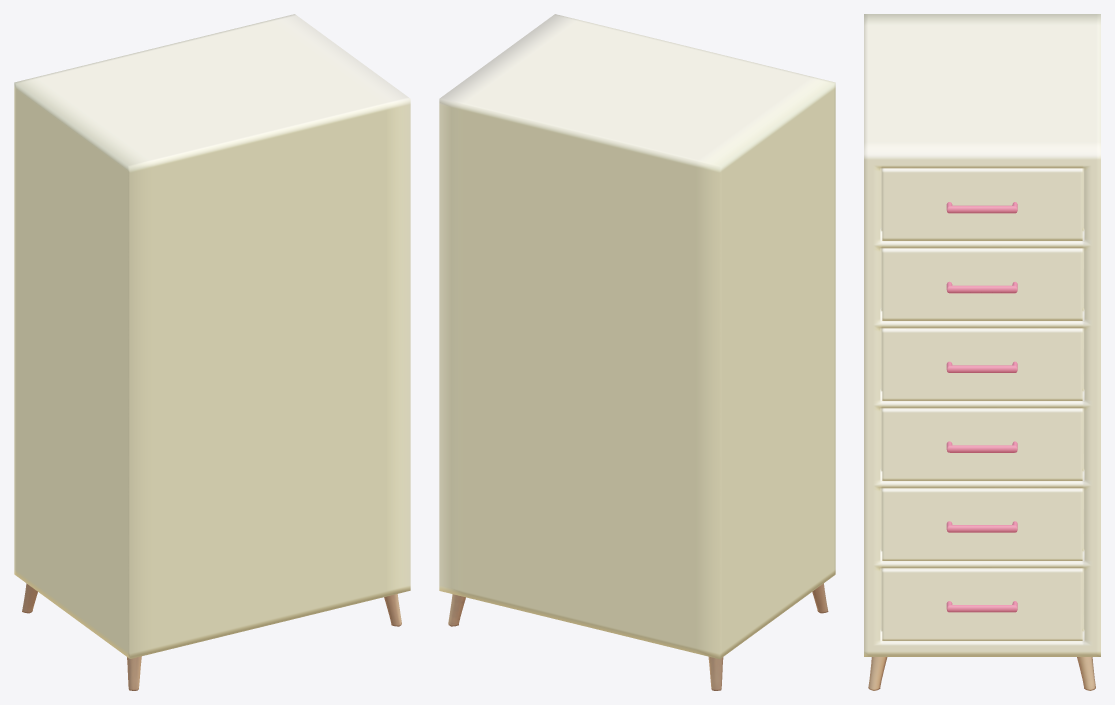
The model's file is drawer-small.glb.
3 views of the same model, side by side, from view 1: azimuth 30°, elevation 25°; view 2: azimuth 150°, elevation 25°; view 3: azimuth 270°, elevation 25° (orthographic). The views are drawn at different scales.
Parts seen in each view (by area): view 1: room3_dresser_small; view 2: room3_dresser_small; view 3: room3_dresser_small.
Boxes of the visible parts, x1=… form: room3_dresser_small: x1=14, y1=14, x2=410, y2=690; room3_dresser_small: x1=439, y1=14, x2=835, y2=690; room3_dresser_small: x1=864, y1=14, x2=1100, y2=690.
Bounding box in the file's own units: 1.43 × 2.47 × 0.9839.
Materials: 1 (1 with a texture image).
